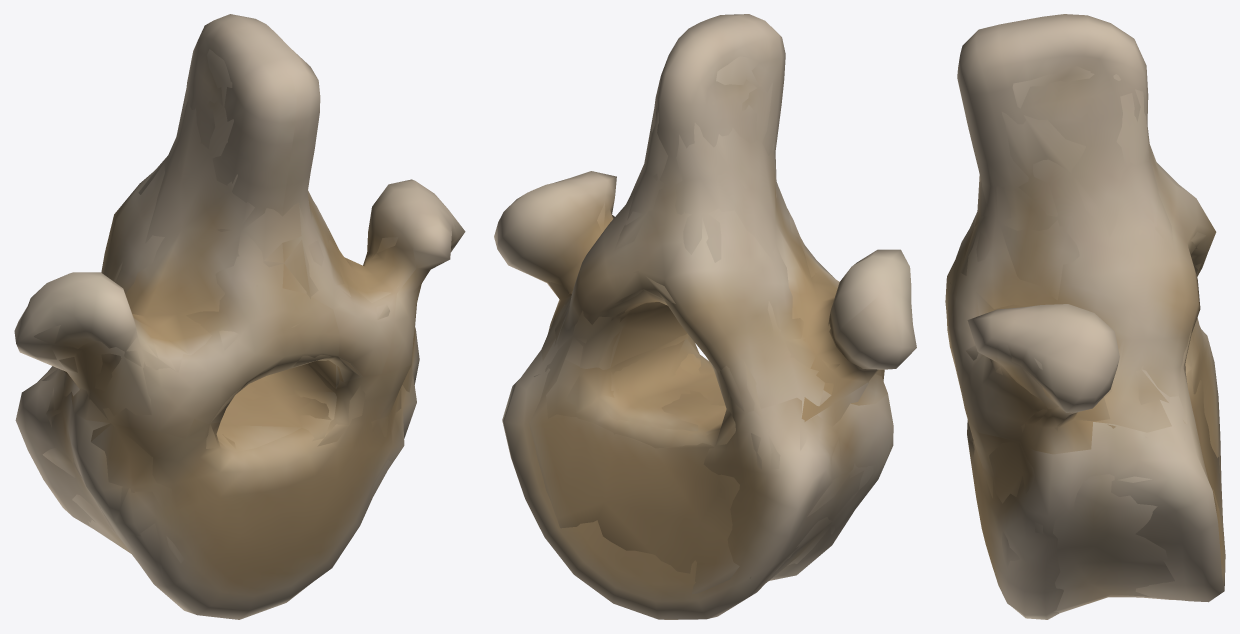
Rendered from vertebrae thoracicae 18.fbx.
The picture shows the model from 3 angles, left to right: view 1: azimuth 30°, elevation 25°; view 2: azimuth 150°, elevation 25°; view 3: azimuth 270°, elevation 25°; orthographic projection. The views are drawn at different scales.
Visible parts, largest first — view 1: vertebrae thoracicae 18, vertebrae thoracicae 18 low; view 2: vertebrae thoracicae 18, vertebrae thoracicae 18 low; view 3: vertebrae thoracicae 18, vertebrae thoracicae 18 low.
Part boxes in pixels (box(x1,y1,x2,y2)): vertebrae thoracicae 18: box(14, 14, 465, 619); vertebrae thoracicae 18 low: box(34, 49, 456, 575); vertebrae thoracicae 18: box(494, 14, 916, 619); vertebrae thoracicae 18 low: box(529, 56, 883, 593); vertebrae thoracicae 18: box(945, 14, 1225, 619); vertebrae thoracicae 18 low: box(950, 66, 1221, 612).
Bounding box in the file's own units: 8.65 × 10.85 × 4.64.
Materials: 1 (1 with a texture image).
